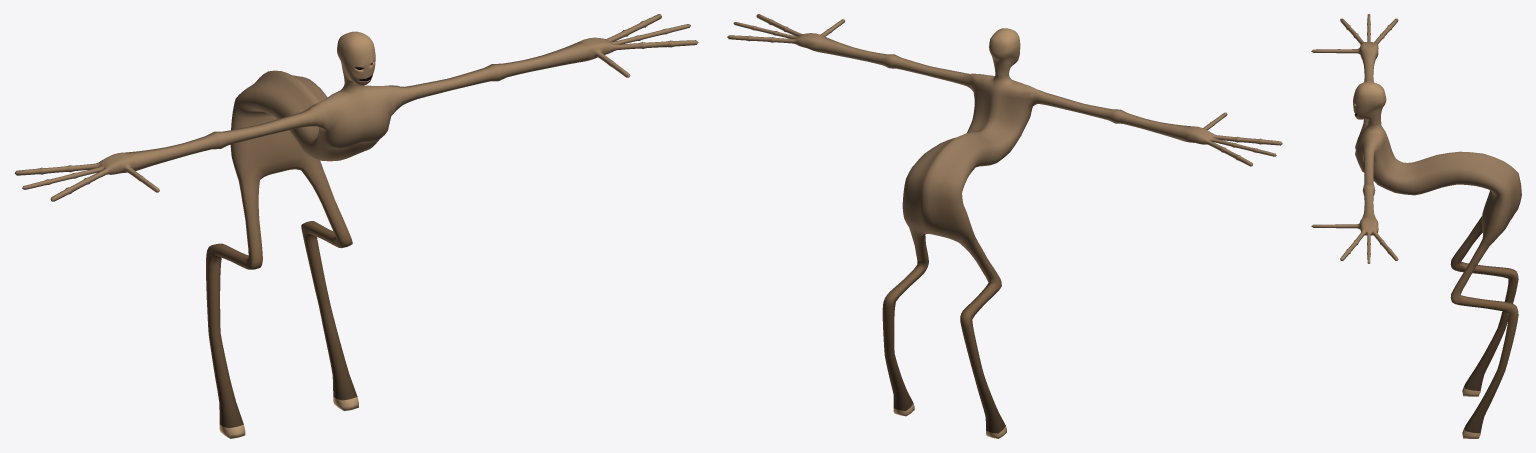
Rendered from SlimyModels_Creatures.fbx.
The picture shows the model from 3 angles, left to right: view 1: azimuth 30°, elevation 25°; view 2: azimuth 150°, elevation 25°; view 3: azimuth 270°, elevation 25°; orthographic projection. The views are drawn at different scales.
Parts seen in each view (by area): view 1: MikeBeast; view 2: MikeBeast; view 3: MikeBeast.
Boxes of the visible parts, <box> form: MikeBeast: <box>14,14,698,438</box>; MikeBeast: <box>727,14,1282,438</box>; MikeBeast: <box>1311,14,1521,438</box>.
Size of the model in its own units: 12.18 by 7.57 by 4.36.
